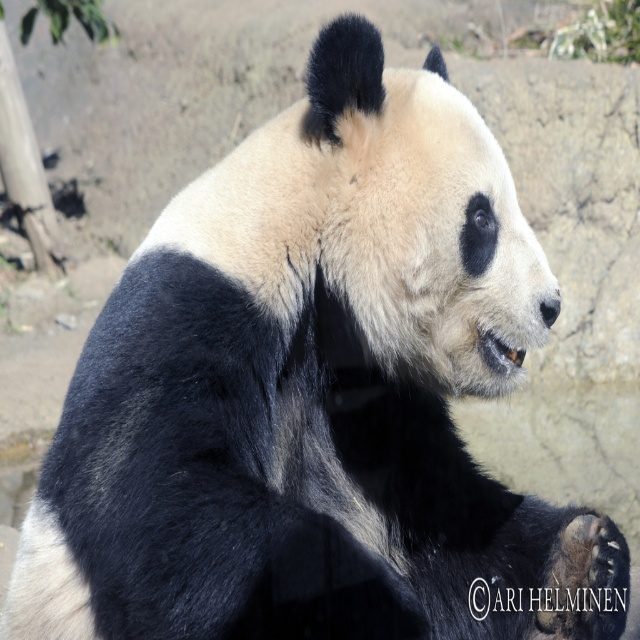Panda: (0, 9, 628, 639)
